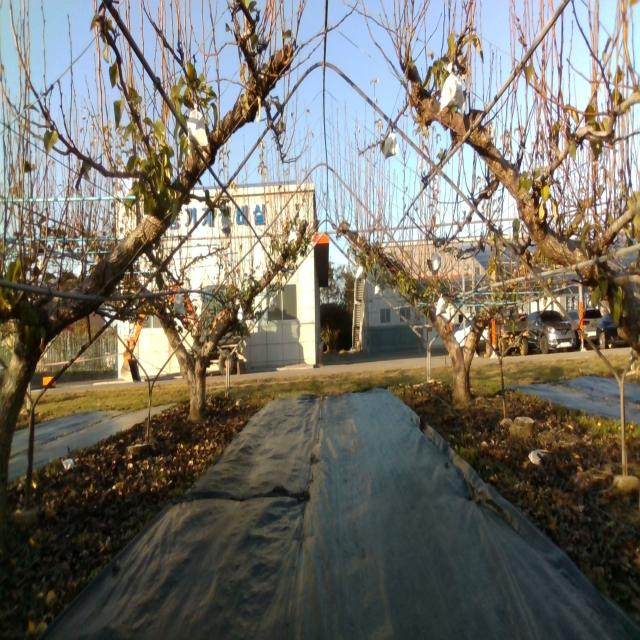pearbags: (440, 62, 465, 112), (186, 106, 208, 146), (385, 127, 399, 161), (220, 215, 231, 240), (173, 294, 185, 316), (435, 293, 446, 317)
